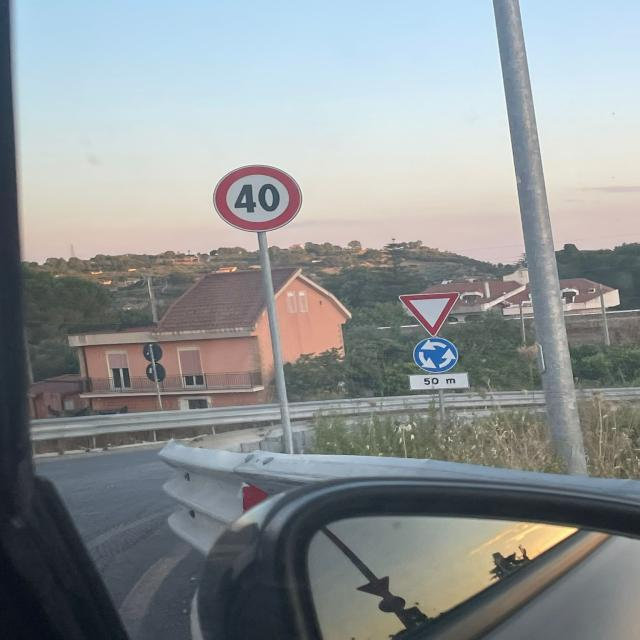forb_speed_over_40: (213, 164, 303, 233)
prio_give_way: (398, 291, 461, 337)
